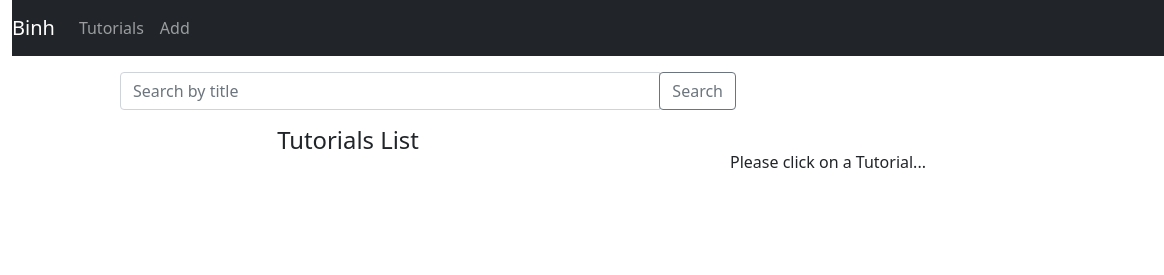
Routes › redirects page to route path Add
Click the link "Add": (175, 28) [160,17,190,39]
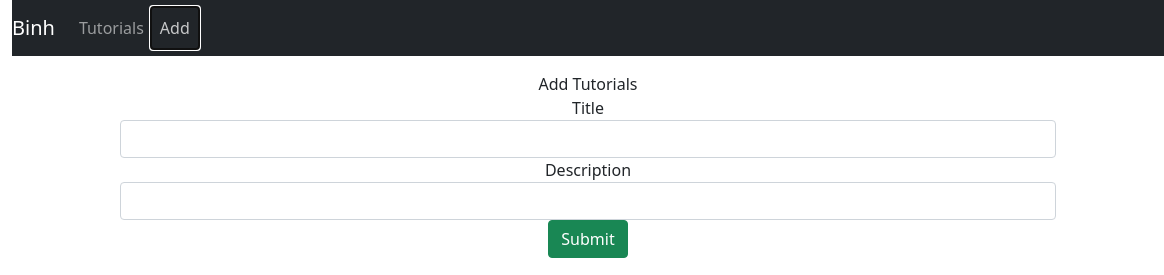
expect the text "Add Tutorials" is shown: met, box [538,73,638,95]
